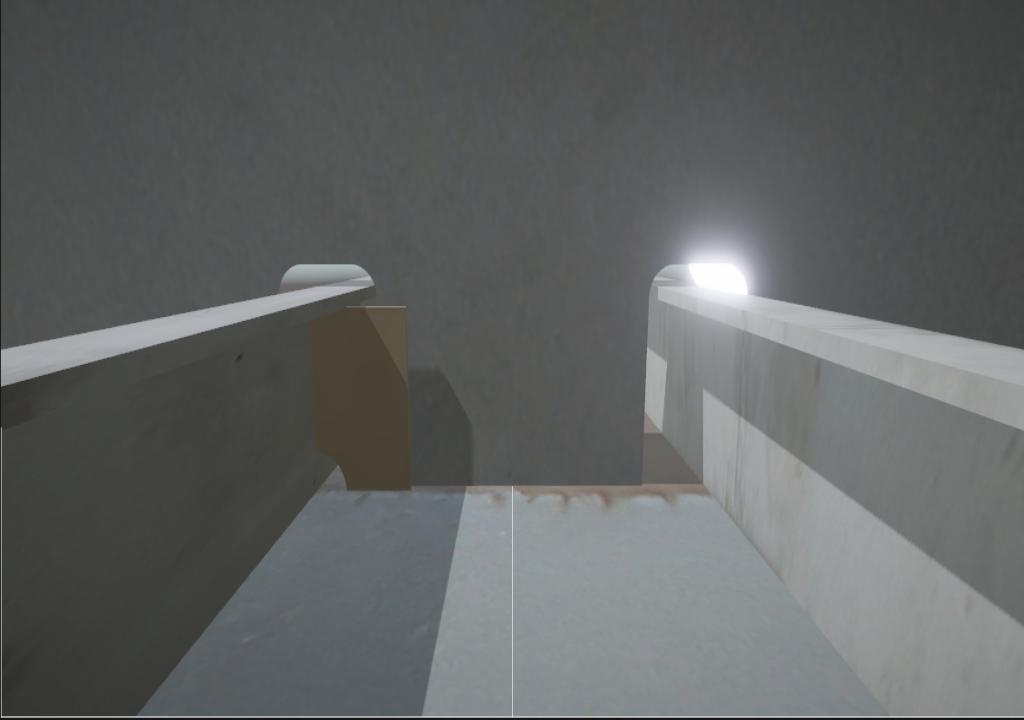fillet_yong_jeop_jang: (410, 481, 647, 490)
plate_CP02: (306, 306, 411, 491)
